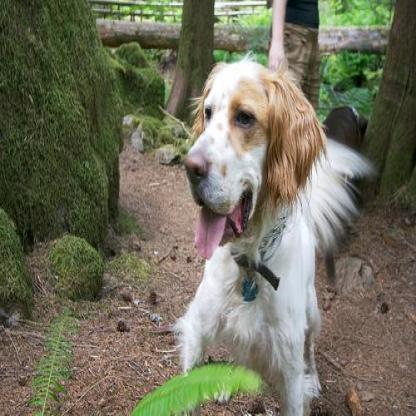English_setter: (174, 46, 378, 412)
